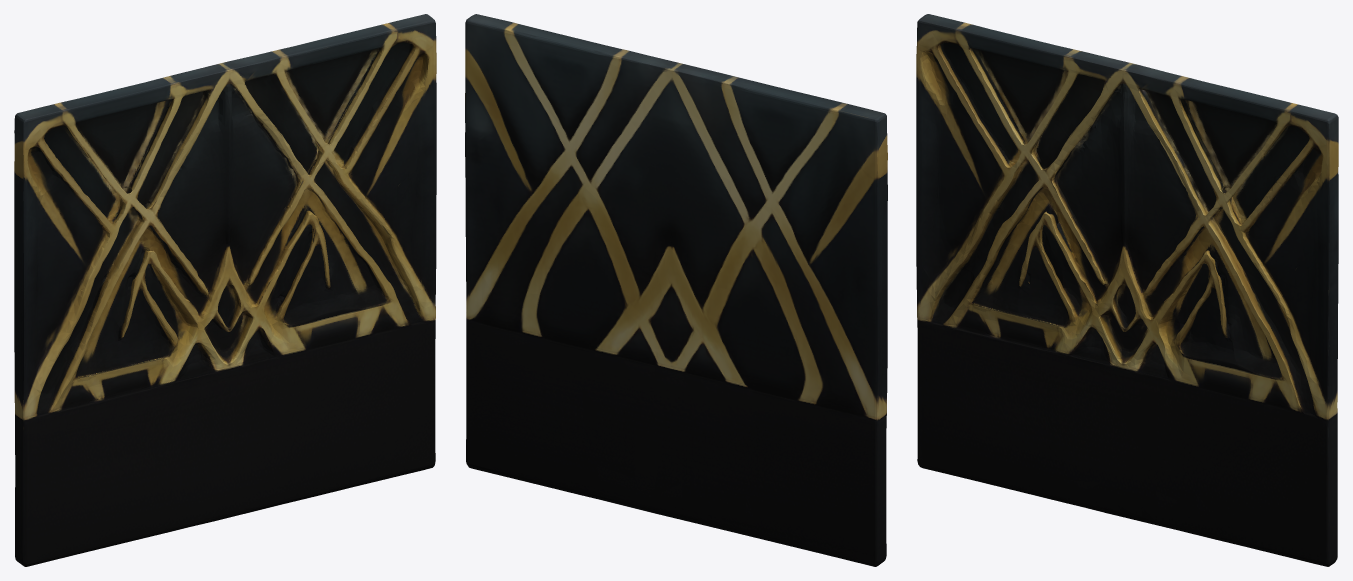
Rendered from 20903_headboard_legends_apex_gold_in.glb.
3 renders of one model, left to right at view 1: azimuth 30°, elevation 25°; view 2: azimuth 150°, elevation 25°; view 3: azimuth 330°, elevation 25°, orthographic.
Visible parts, largest first — view 1: world; view 2: world; view 3: world.
Part boxes in pixels (x1,y1,x2,y2): world: (14, 14, 436, 566); world: (465, 14, 887, 566); world: (916, 14, 1338, 566).
Bounding box in the file's own units: 0.9646 × 1 × 0.0427.
Materials: 1 (1 with a texture image).
